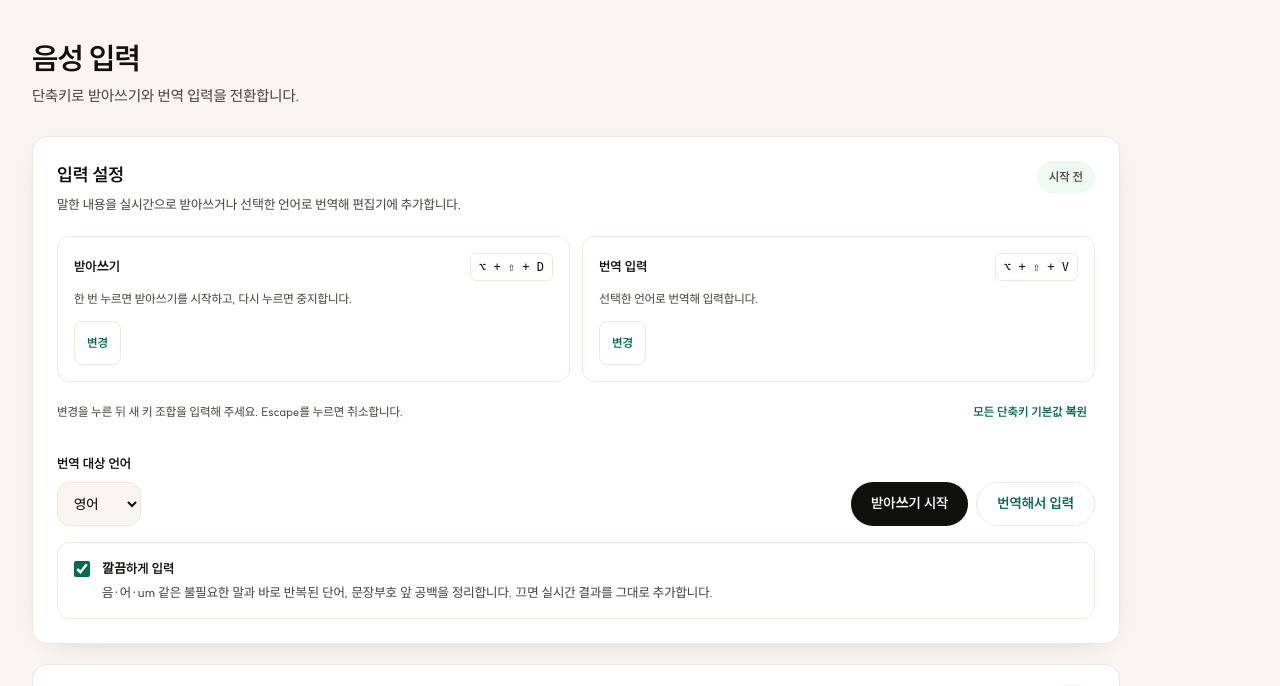
Test case: SonioxWorkspaceClient › keeps a changed shortcut usable but warns when browser storage is unavailable
Click the button with aria-label "받아쓰기 단축키: 변경" at (98, 343), box [74,321,121,365]
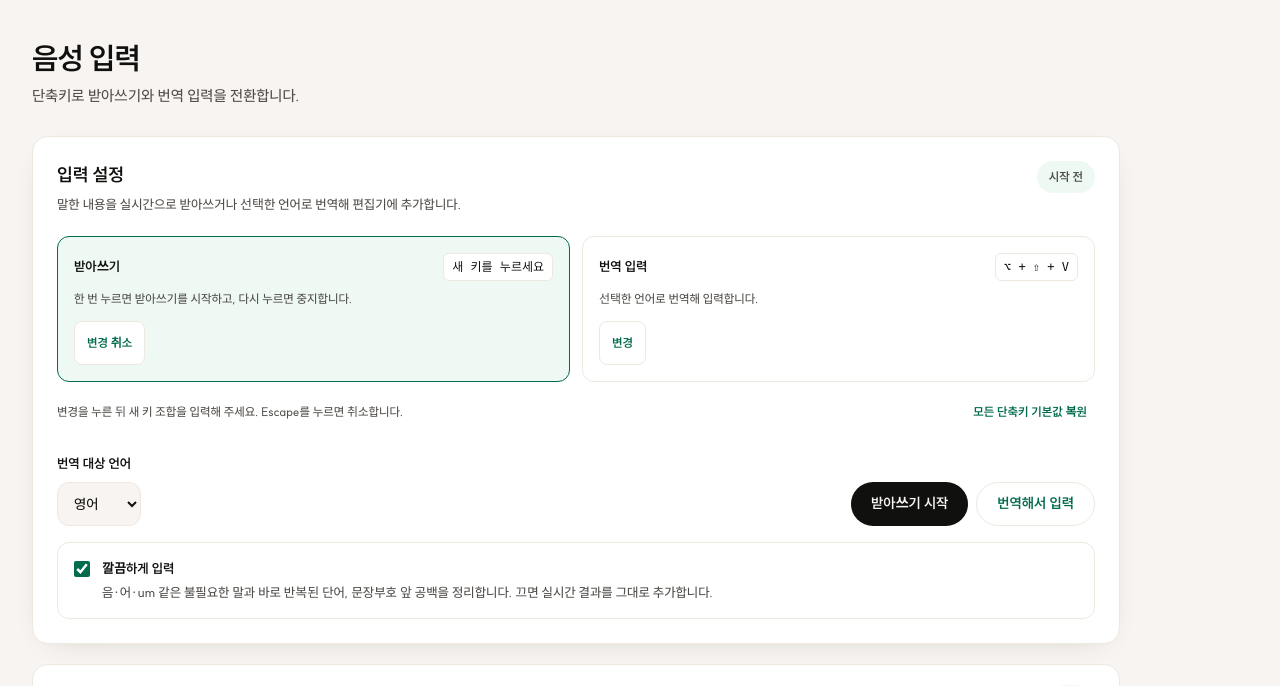
Press k
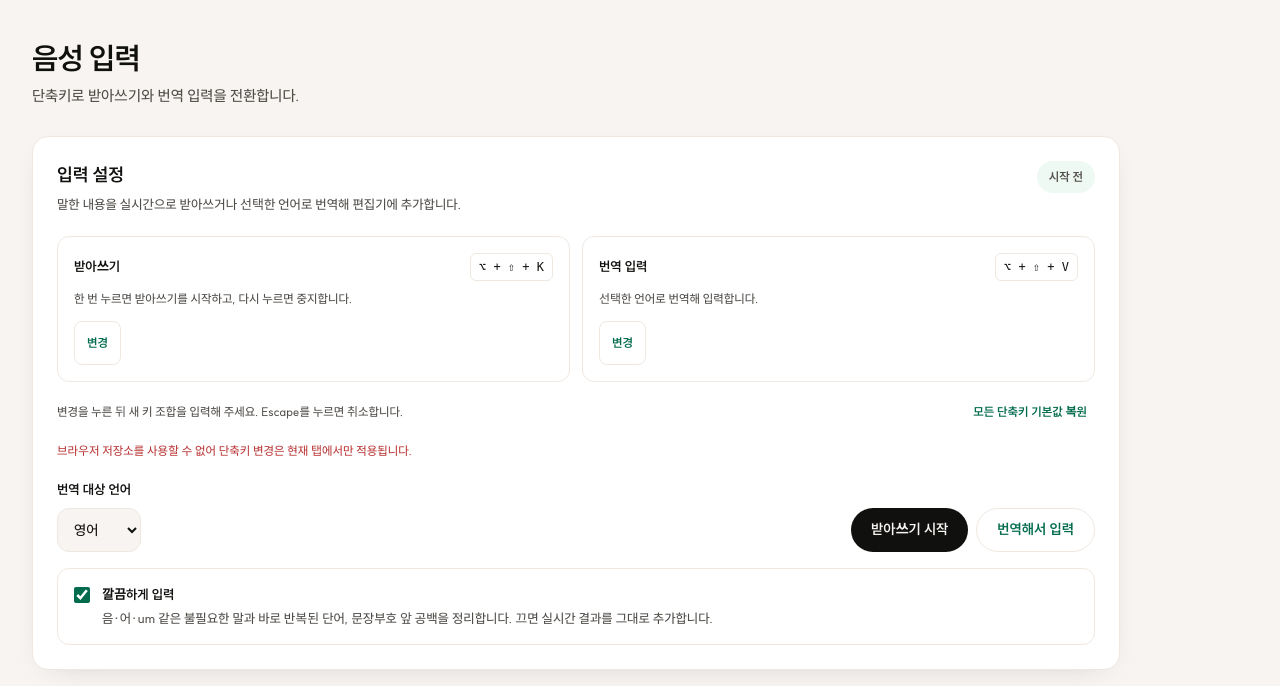
Expected: the text "⌥ + ⇧ + K" is shown, [470,253,553,281]
Expected: the message "브라우저 저장소를 사용할 수 없어 단축키 변경은 현재 탭에서만 적용됩니다." is shown, [57,443,412,458]
